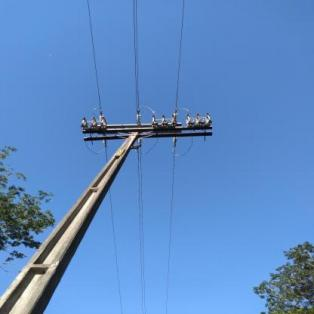Poste: (0, 121, 148, 314)
